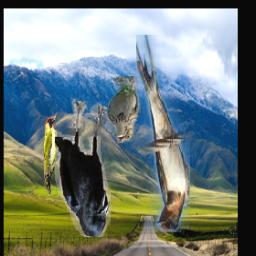Crow: (54, 102, 110, 238)
Sparrow: (108, 76, 141, 143)
Swallow: (135, 36, 189, 233)
Woodpecker: (43, 114, 60, 195)
